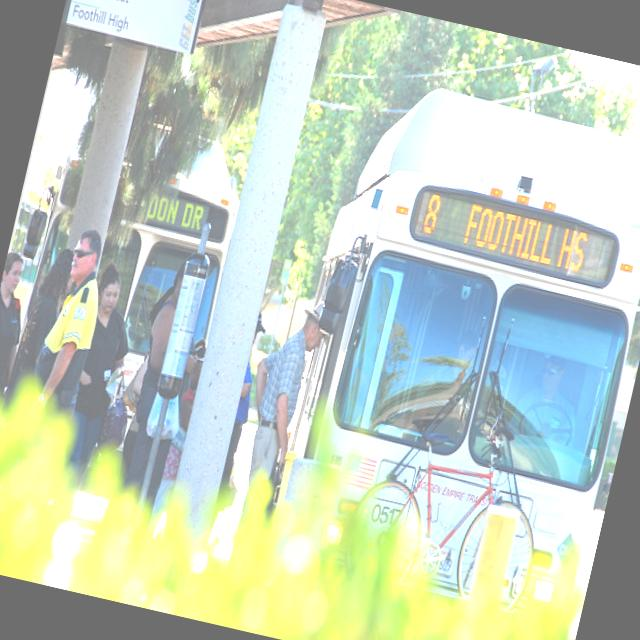Vehicle: (254, 76, 640, 627), (0, 104, 250, 439)
